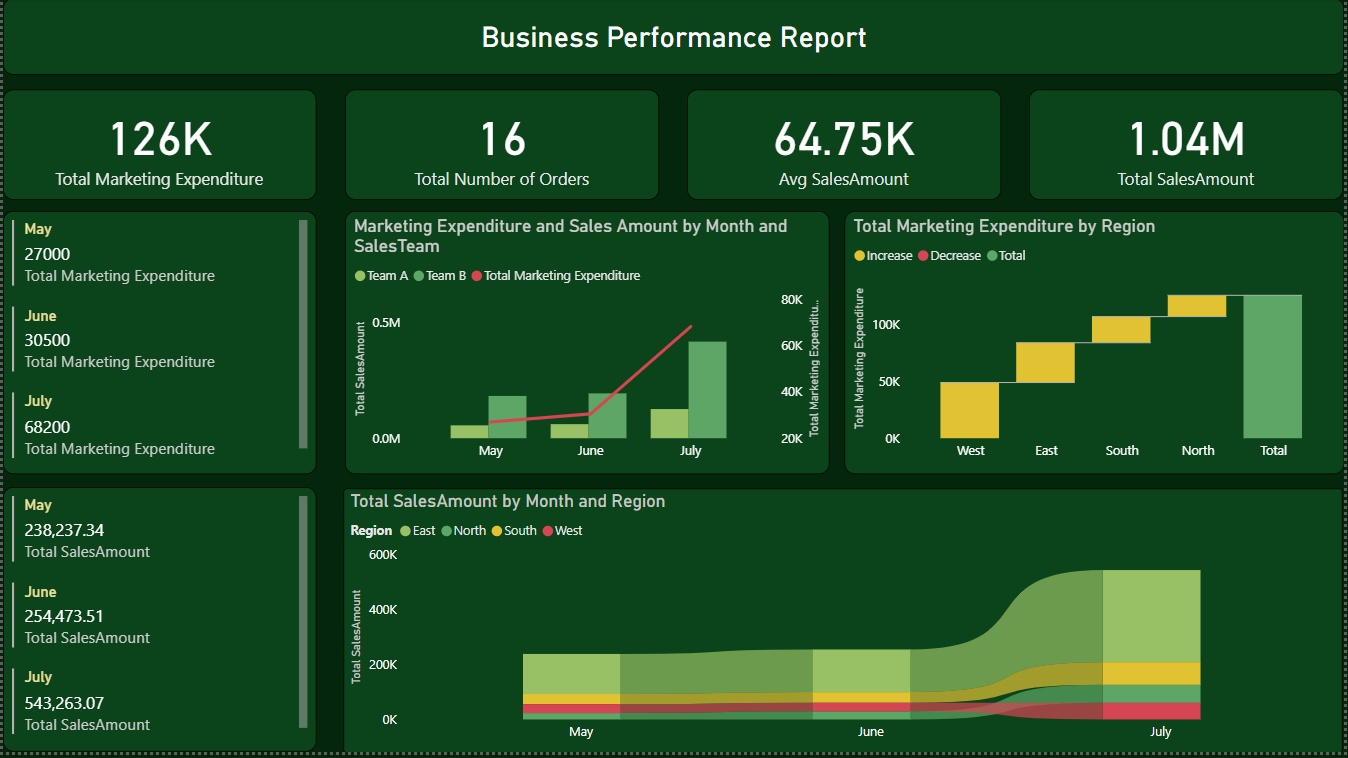

What the dashboard file says about the page in this screenshot:
{"tool":"powerbi","page":{"name":"Mine","canvas":[1280,720],"ordinal":1},"visuals":[{"type":"card","fields":{"Values":["Exercise 5 1 4 6-Update.Total Marketing Expenditure"]},"box":[0,87.5,299,105],"z":0,"group":"g1"},{"type":"multiRowCard","fields":{"Values":["Exercise 5 1 4 6-Update.OrderDate.Variation.Date Hierarchy.Month","Exercise 5 1 4 6-Update.Total SalesAmount"]},"box":[0,467.6,299,252.9],"z":0},{"type":"card","fields":{"Values":["Exercise 5 1 4 6-Update.Total Number of Orders"]},"box":[326.2,87.5,300,105],"z":1000,"group":"g1"},{"type":"multiRowCard","fields":{"Values":["Exercise 5 1 4 6-Update.OrderDate.Variation.Date Hierarchy.Month","Exercise 5 1 4 6-Update.Total Marketing Expenditure"]},"box":[0,203.6,299,251.3],"z":1000},{"type":"card","fields":{"Values":["Exercise 5 1 4 6-Update.Avg SalesAmount"]},"box":[653.3,87.5,300,105],"z":2000,"group":"g1"},{"type":"lineClusteredColumnComboChart","title":"Marketing Expenditure and Sales Amount by Month and SalesTeam","fields":{"Category":["Exercise 5 1 4 6-Update.OrderDate.Variation.Date Hierarchy.Month"],"Series":["Exercise 5 1 4 6-Update.SalesTeam"],"Y":["Exercise 5 1 4 6-Update.Total SalesAmount"],"Y2":["Exercise 5 1 4 6-Update.Total Marketing Expenditure"]},"box":[326.1,203.6,462.9,251.3],"z":2000},{"type":"card","fields":{"Values":["Exercise 5 1 4 6-Update.Total SalesAmount"]},"box":[980,87.5,300,105],"z":3000,"group":"g1"},{"type":"waterfallChart","fields":{"Category":["Exercise 5 1 4 6-Update.Region"],"Y":["Exercise 5 1 4 6-Update.Total Marketing Expenditure"]},"box":[803.3,203.6,477.2,251.3],"z":3000},{"type":"textbox","title":"Business Performance Report","box":[0,0,1280.4,73.2],"z":4000},{"type":"group","id":"g1","title":"Group 1","box":[0,87.5,1280,105],"z":5000},{"type":"ribbonChart","fields":{"Category":["Exercise 5 1 4 6-Update.OrderDate.Variation.Date Hierarchy.Month"],"Y":["Exercise 5 1 4 6-Update.Total SalesAmount"],"Series":["Exercise 5 1 4 6-Update.Region"]},"box":[325.6,467.9,953.9,252.9],"z":6000}]}

Visuals, with their boxes in screenshot pixels (x1, y1, x2, y2), scaled from the page's 1280x720 canvas onto the 1348x758 screenshot:
card - Exercise 5 1 4 6-Update.Total Marketing Expenditure: rect(0, 92, 315, 203)
multiRowCard - Exercise 5 1 4 6-Update.OrderDate.Variation.Date Hierarchy.Month x Exercise 5 1 4 6-Update.Total SalesAmount: rect(0, 492, 315, 757)
card - Exercise 5 1 4 6-Update.Total Number of Orders: rect(344, 92, 659, 203)
multiRowCard - Exercise 5 1 4 6-Update.OrderDate.Variation.Date Hierarchy.Month x Exercise 5 1 4 6-Update.Total Marketing Expenditure: rect(0, 214, 315, 479)
card - Exercise 5 1 4 6-Update.Avg SalesAmount: rect(688, 92, 1004, 203)
"Marketing Expenditure and Sales Amount by Month and SalesTeam" lineClusteredColumnComboChart: rect(343, 214, 831, 479)
card - Exercise 5 1 4 6-Update.Total SalesAmount: rect(1032, 92, 1347, 203)
waterfallChart - Exercise 5 1 4 6-Update.Region x Exercise 5 1 4 6-Update.Total Marketing Expenditure: rect(846, 214, 1347, 479)
"Business Performance Report" textbox: rect(0, 0, 1347, 77)
"Group 1" group: rect(0, 92, 1347, 203)
ribbonChart - Exercise 5 1 4 6-Update.OrderDate.Variation.Date Hierarchy.Month x Exercise 5 1 4 6-Update.Total SalesAmount: rect(343, 493, 1347, 757)
